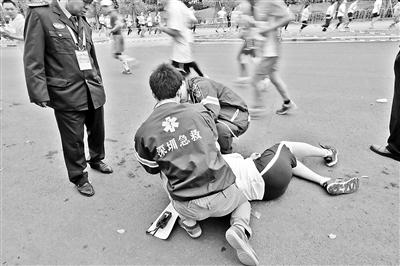10+: (3, 3, 400, 257)
down: (196, 138, 359, 207)
